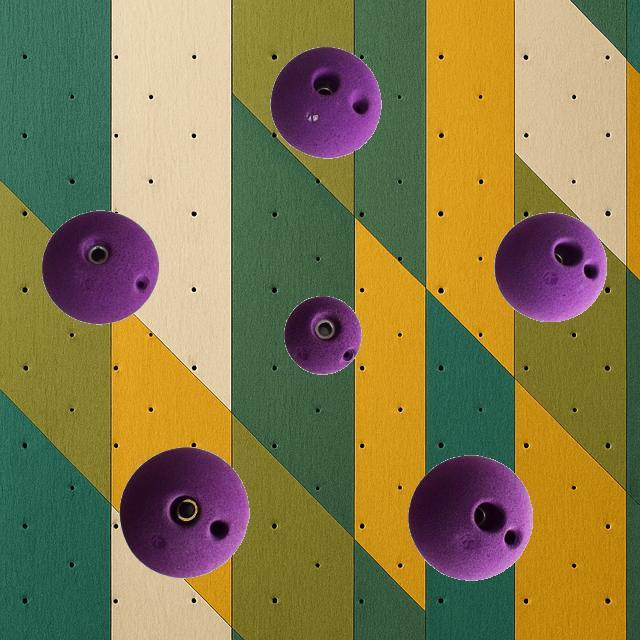Sloper: (118, 446, 250, 578), (406, 453, 534, 581), (40, 208, 160, 324), (492, 210, 608, 322), (269, 45, 381, 158), (283, 294, 362, 374)
